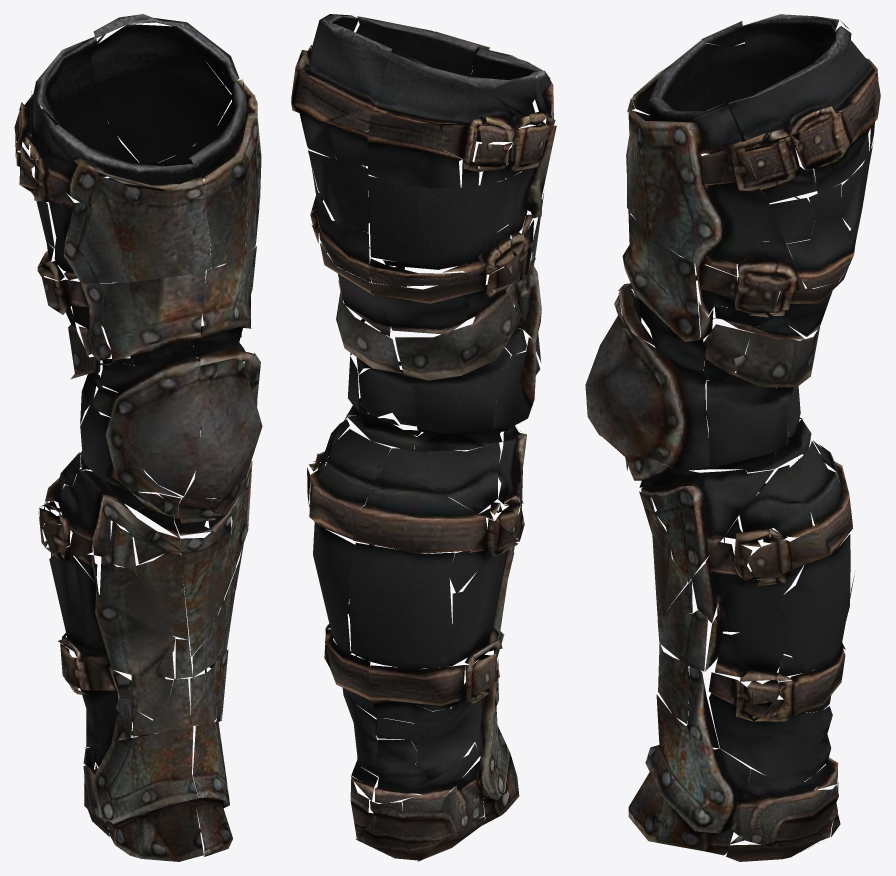
File: a_sluice_greaves.glb
The picture shows the model from 3 angles, left to right: view 1: azimuth 30°, elevation 25°; view 2: azimuth 150°, elevation 25°; view 3: azimuth 270°, elevation 25°; orthographic projection. The views are drawn at different scales.
Parts seen in each view (by area): view 1: tripo_node_f21b655e-fed7-4f12-bf31-daf548b900f1; view 2: tripo_node_f21b655e-fed7-4f12-bf31-daf548b900f1; view 3: tripo_node_f21b655e-fed7-4f12-bf31-daf548b900f1.
Boxes of the visible parts, box(x1,y1,x2,y2) form: tripo_node_f21b655e-fed7-4f12-bf31-daf548b900f1: box(14, 14, 262, 861); tripo_node_f21b655e-fed7-4f12-bf31-daf548b900f1: box(291, 14, 556, 861); tripo_node_f21b655e-fed7-4f12-bf31-daf548b900f1: box(585, 14, 880, 861).
Size of the model in its own units: 0.0967 by 0.3197 by 0.1038.
1 material, 1 textured.
